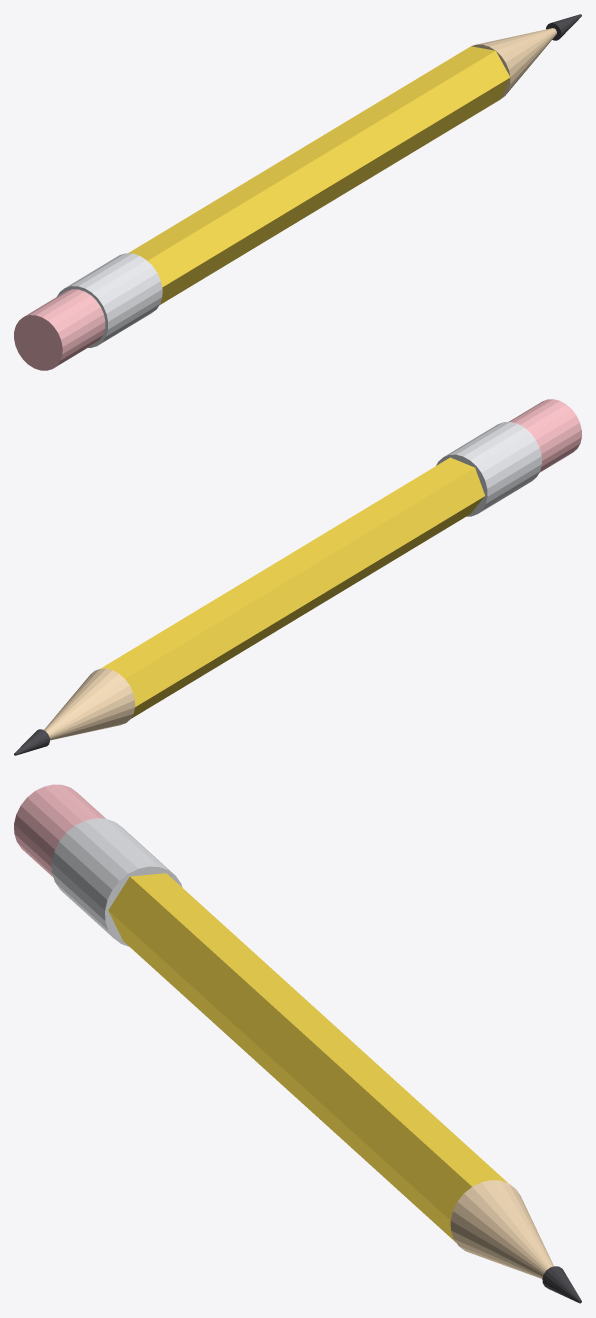
Rendered from pencil.glb.
The picture shows the model from 3 angles, top to bottom: view 1: azimuth 30°, elevation 25°; view 2: azimuth 210°, elevation 25°; view 3: azimuth 270°, elevation 25°; orthographic projection. The views are drawn at different scales.
Parts seen in each view (by area): view 1: pencil_body, pencil_eraser, pencil_ferrule, pencil_wood_tip; view 2: pencil_body, pencil_ferrule, pencil_wood_tip, pencil_eraser, pencil_graphite; view 3: pencil_body, pencil_ferrule, pencil_wood_tip, pencil_eraser, pencil_graphite.
Boxes of the visible parts, left/top/right/bottom form: pencil_body: left=128, top=46, right=510, bottom=304; pencil_eraser: left=14, top=289, right=105, bottom=370; pencil_ferrule: left=57, top=253, right=162, bottom=347; pencil_wood_tip: left=471, top=28, right=556, bottom=99; pencil_body: left=101, top=457, right=484, bottom=718; pencil_ferrule: left=436, top=422, right=541, bottom=516; pencil_wood_tip: left=44, top=668, right=135, bottom=740; pencil_eraser: left=509, top=399, right=581, bottom=472; pencil_graphite: left=14, top=729, right=49, bottom=755; pencil_body: left=108, top=873, right=507, bottom=1242; pencil_ferrule: left=51, top=818, right=182, bottom=946; pencil_wood_tip: left=450, top=1180, right=553, bottom=1278; pencil_eraser: left=14, top=784, right=105, bottom=877; pencil_graphite: left=542, top=1266, right=581, bottom=1303.
Size of the model in its own units: 2.57 by 0.1949 by 1.26.
